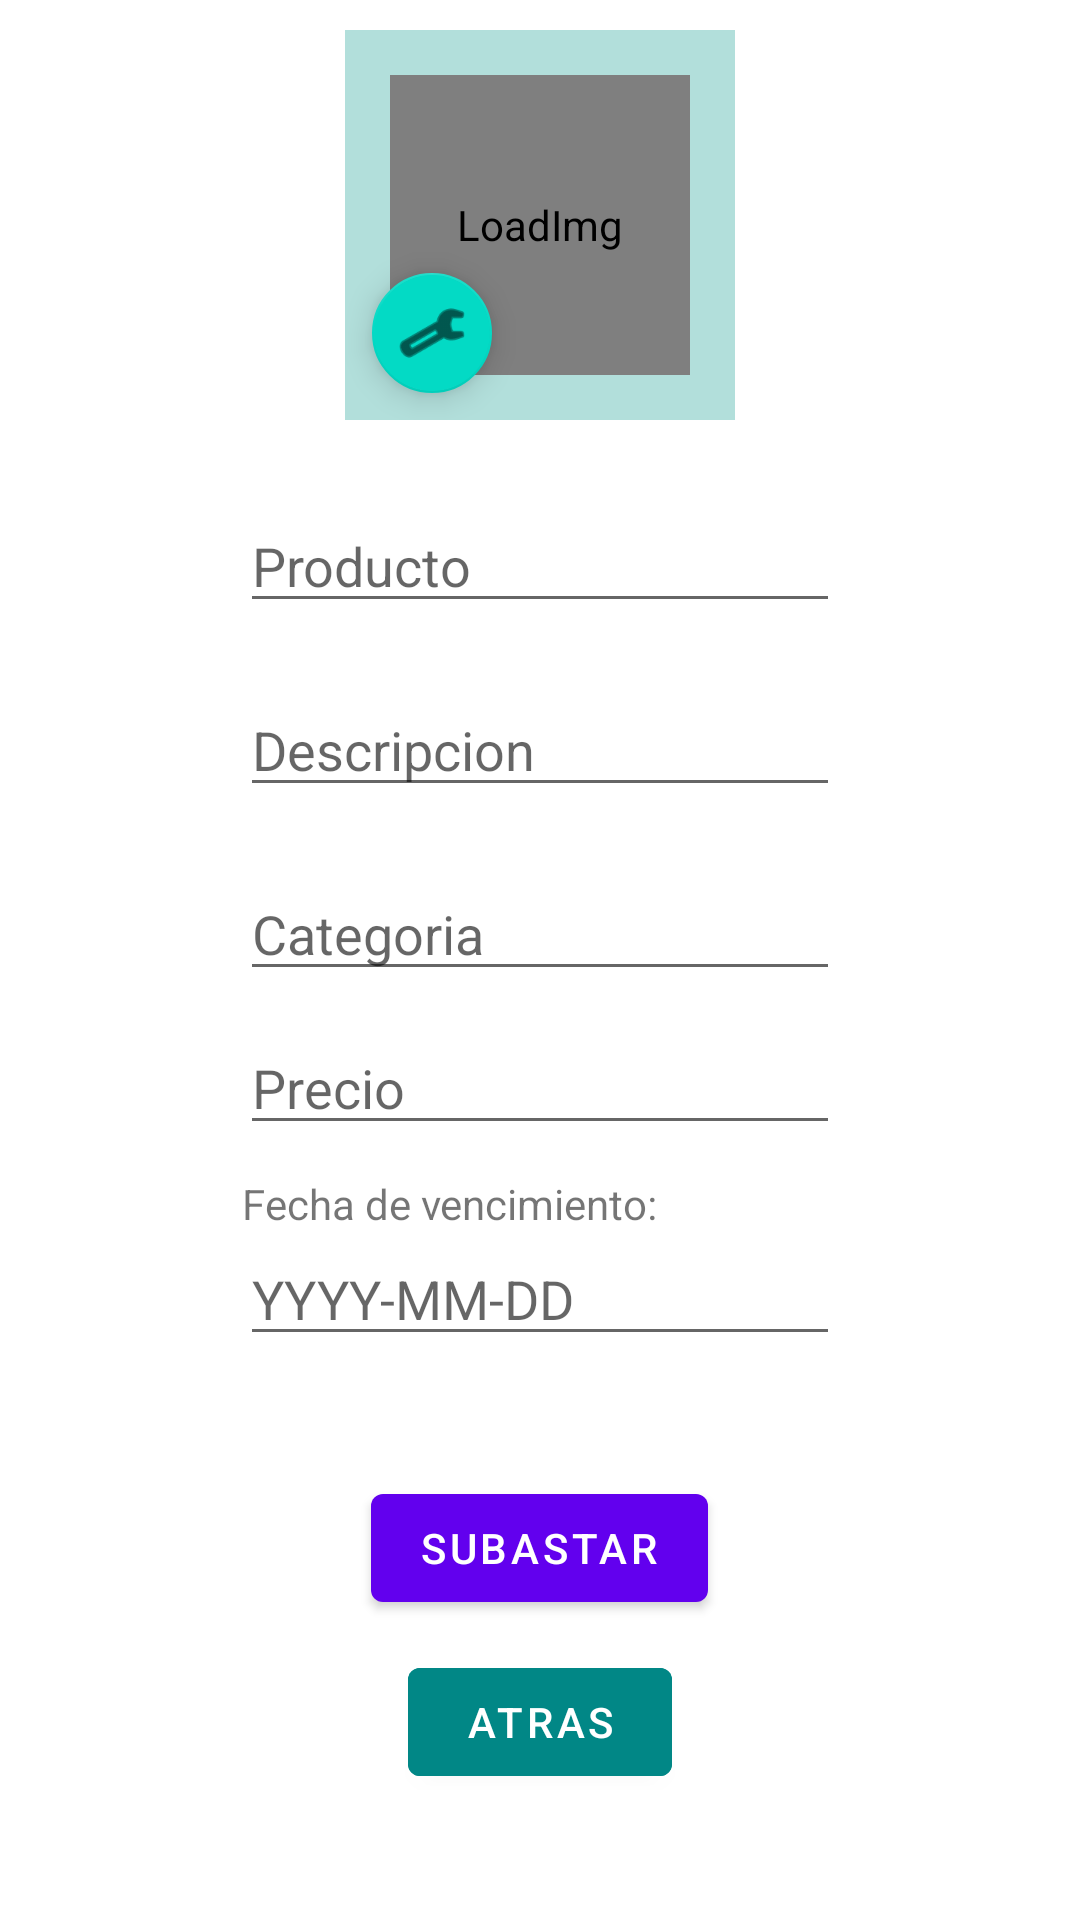

Named icons in this screenshot (1080 × 1920) and their bounding boxes, (x1, y1, x2, y2):
manage: (372, 261, 504, 394)
